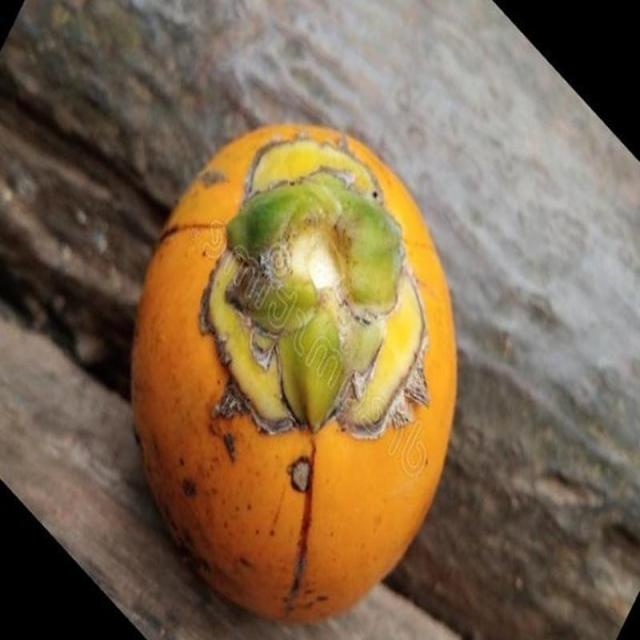good: (128, 125, 458, 625)
